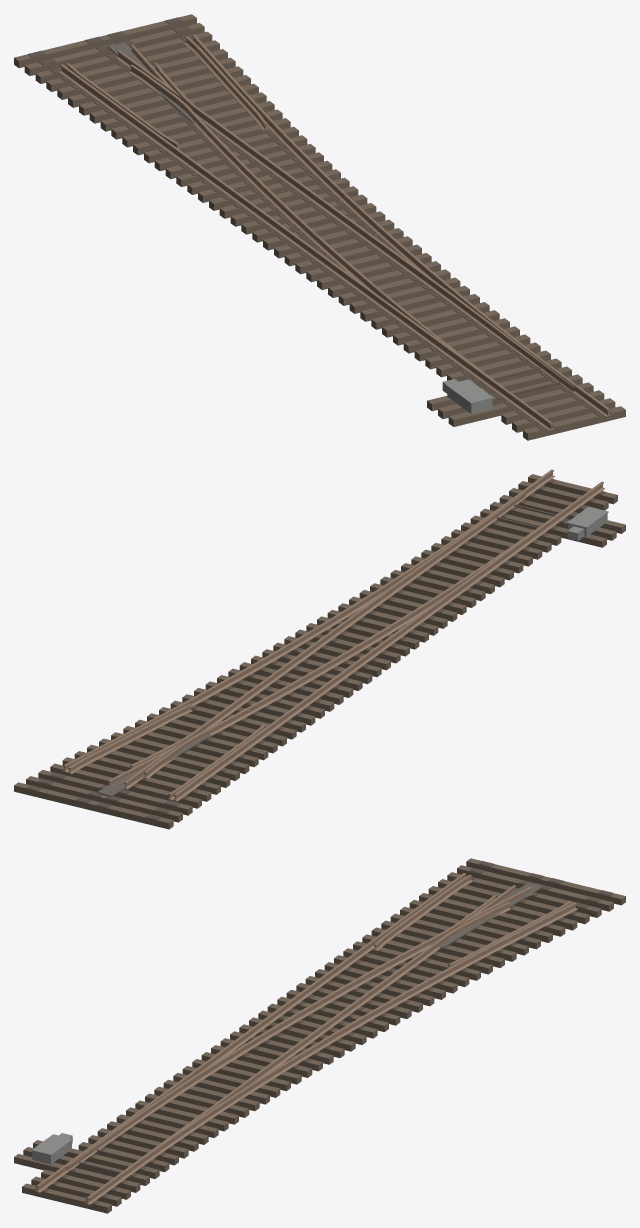
The model's file is turnout_7_r.glb.
3 renders of one model, top to bottom at view 1: azimuth 30°, elevation 25°; view 2: azimuth 150°, elevation 25°; view 3: azimuth 330°, elevation 25°, orthographic. The views are drawn at different scales.
Visible parts, largest first — view 1: Timbers, Closures, StockStraight, Plates, StockCurved, Guards, BladeStraight, Machine, Frog; view 2: Timbers, Closures, StockStraight, StockCurved, Plates, Guards, BladeStraight, Machine, Frog; view 3: Timbers, Closures, StockCurved, StockStraight, Plates, Guards, BladeCurved, Machine, Frog, FrogCasting.
Part boxes in pixels (bbox=[...]): Timbers: bbox=[14, 14, 625, 440]; Closures: bbox=[128, 62, 453, 310]; StockStraight: bbox=[58, 64, 553, 430]; Plates: bbox=[28, 17, 611, 429]; StockCurved: bbox=[192, 34, 611, 416]; Guards: bbox=[66, 36, 268, 149]; BladeStraight: bbox=[450, 295, 574, 391]; Machine: bbox=[442, 379, 493, 413]; Frog: bbox=[116, 44, 180, 98]; Timbers: bbox=[14, 474, 625, 829]; Closures: bbox=[130, 568, 462, 779]; StockStraight: bbox=[172, 481, 604, 801]; StockCurved: bbox=[62, 469, 554, 772]; Plates: bbox=[26, 479, 605, 820]; Guards: bbox=[67, 704, 265, 800]; BladeStraight: bbox=[416, 492, 525, 575]; Machine: bbox=[567, 507, 608, 540]; Frog: bbox=[107, 743, 181, 789]; Timbers: bbox=[14, 858, 625, 1213]; Closures: bbox=[178, 895, 510, 1101]; StockCurved: bbox=[85, 902, 577, 1204]; StockStraight: bbox=[35, 873, 465, 1192]; Plates: bbox=[34, 861, 613, 1204]; Guards: bbox=[373, 874, 571, 967]; BladeCurved: bbox=[67, 1087, 180, 1170]; Machine: bbox=[31, 1133, 72, 1164]; Frog: bbox=[458, 885, 532, 926]; FrogCasting: bbox=[431, 882, 542, 948].
Size of the model in its own units: 5.8 by 0.4678 by 23.63.
